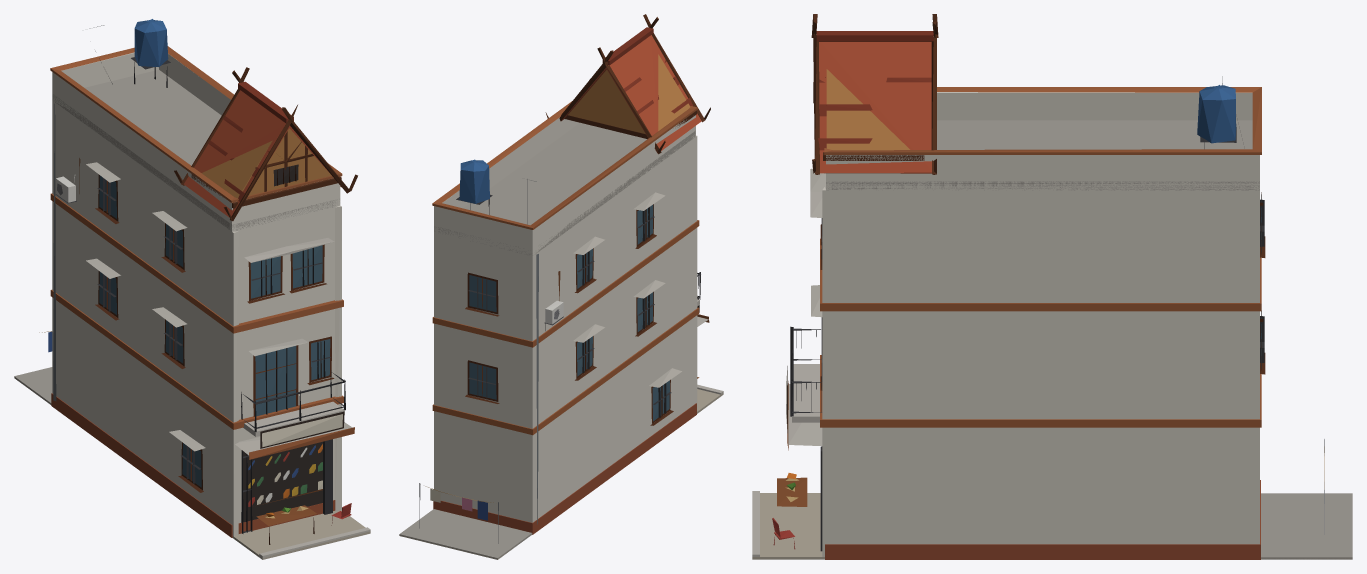
Rendered from bay2_left.glb.
3 renders of one model, left to right at view 1: azimuth 30°, elevation 25°; view 2: azimuth 150°, elevation 25°; view 3: azimuth 270°, elevation 25°, orthographic. The views are drawn at different scales.
Parts seen in each view (by area): view 1: body, windows; view 2: body, windows; view 3: body.
Part boxes in pixels (x1,y1,x2,y2): body: [14, 19, 370, 559]; windows: [99, 164, 330, 522]; body: [399, 14, 723, 559]; windows: [469, 204, 669, 421]; body: [752, 14, 1352, 559].
Bounding box in the file's own units: 4.95 × 14.92 × 15.9.
